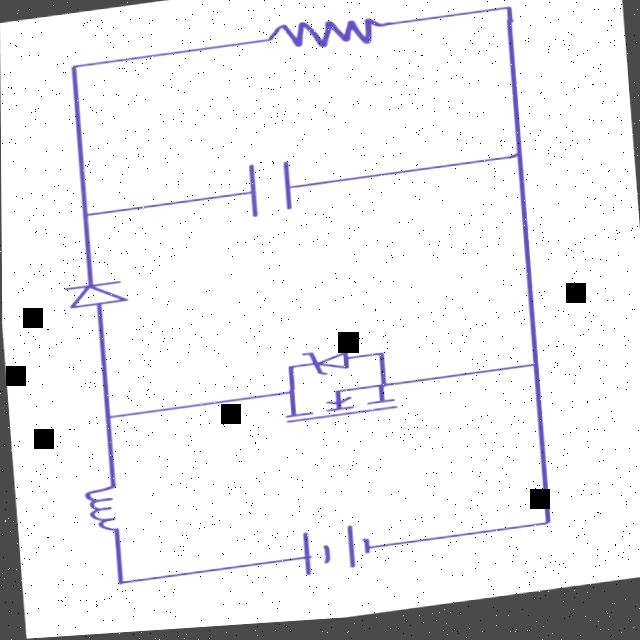capacitor: (223, 149, 327, 230)
diode: (51, 271, 148, 326), (294, 341, 367, 390)
inductor: (70, 466, 154, 545)
mosfet: (253, 371, 410, 442)
resistor: (255, 6, 406, 68)
source: (260, 519, 399, 592)
